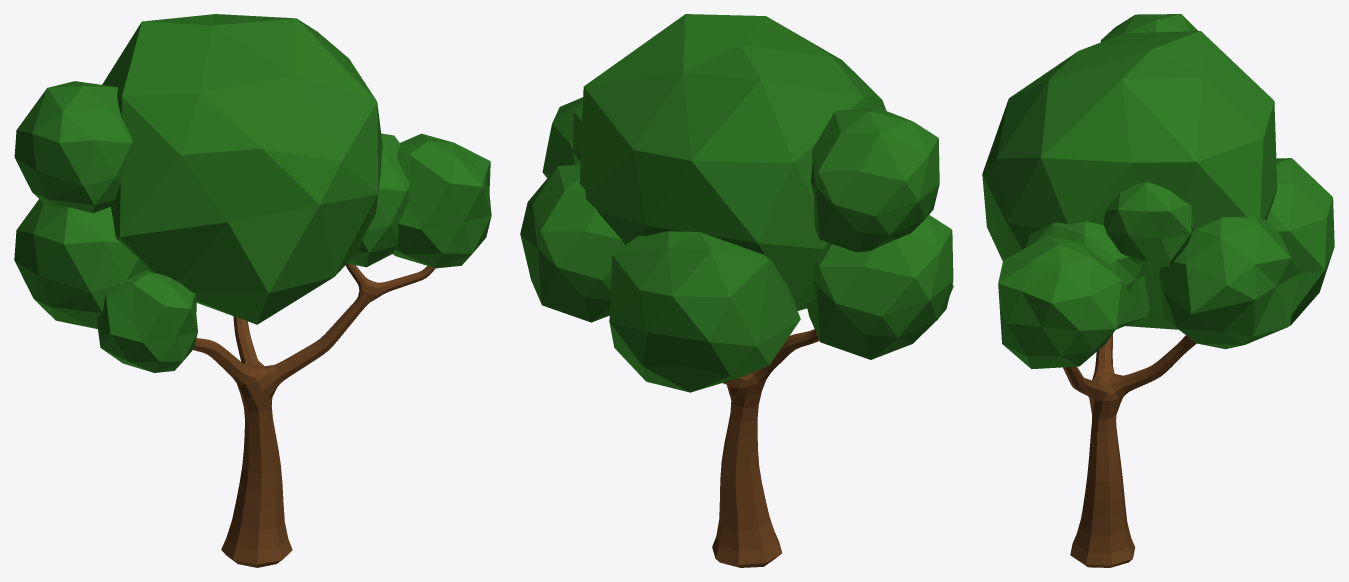
The model's file is Tree.fbx.
3 views of the same model, side by side, from view 1: azimuth 30°, elevation 25°; view 2: azimuth 150°, elevation 25°; view 3: azimuth 270°, elevation 25° (orthographic). The views are drawn at different scales.
Parts seen in each view (by area): view 1: Tree; view 2: Tree; view 3: Tree.
Part boxes in pixels (left/top/right/bottom): Tree: left=14, top=14, right=491, bottom=567; Tree: left=520, top=14, right=953, bottom=567; Tree: left=982, top=14, right=1334, bottom=567.
Bounding box in the file's own units: 859 × 1024 × 651.
